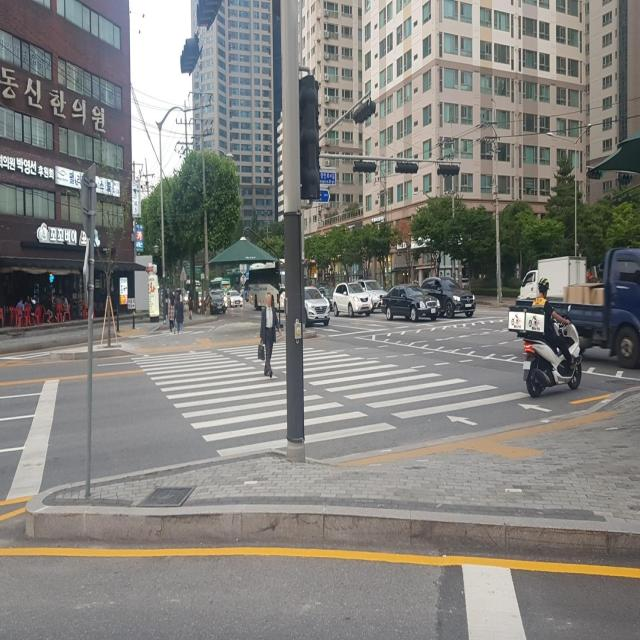횡단보도: (130, 340, 554, 459)
